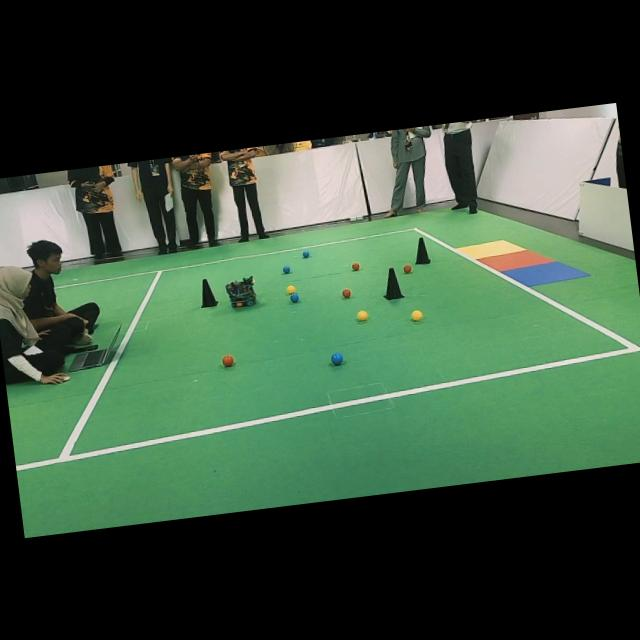ball: (222, 354, 234, 367), (331, 352, 343, 365), (411, 310, 423, 321), (357, 310, 368, 320), (342, 288, 351, 298), (286, 285, 296, 294), (289, 293, 300, 301), (351, 262, 360, 271), (403, 264, 412, 273), (283, 265, 291, 274), (302, 250, 309, 258)
goal: (503, 261, 589, 286), (479, 249, 554, 271), (456, 239, 525, 258)
